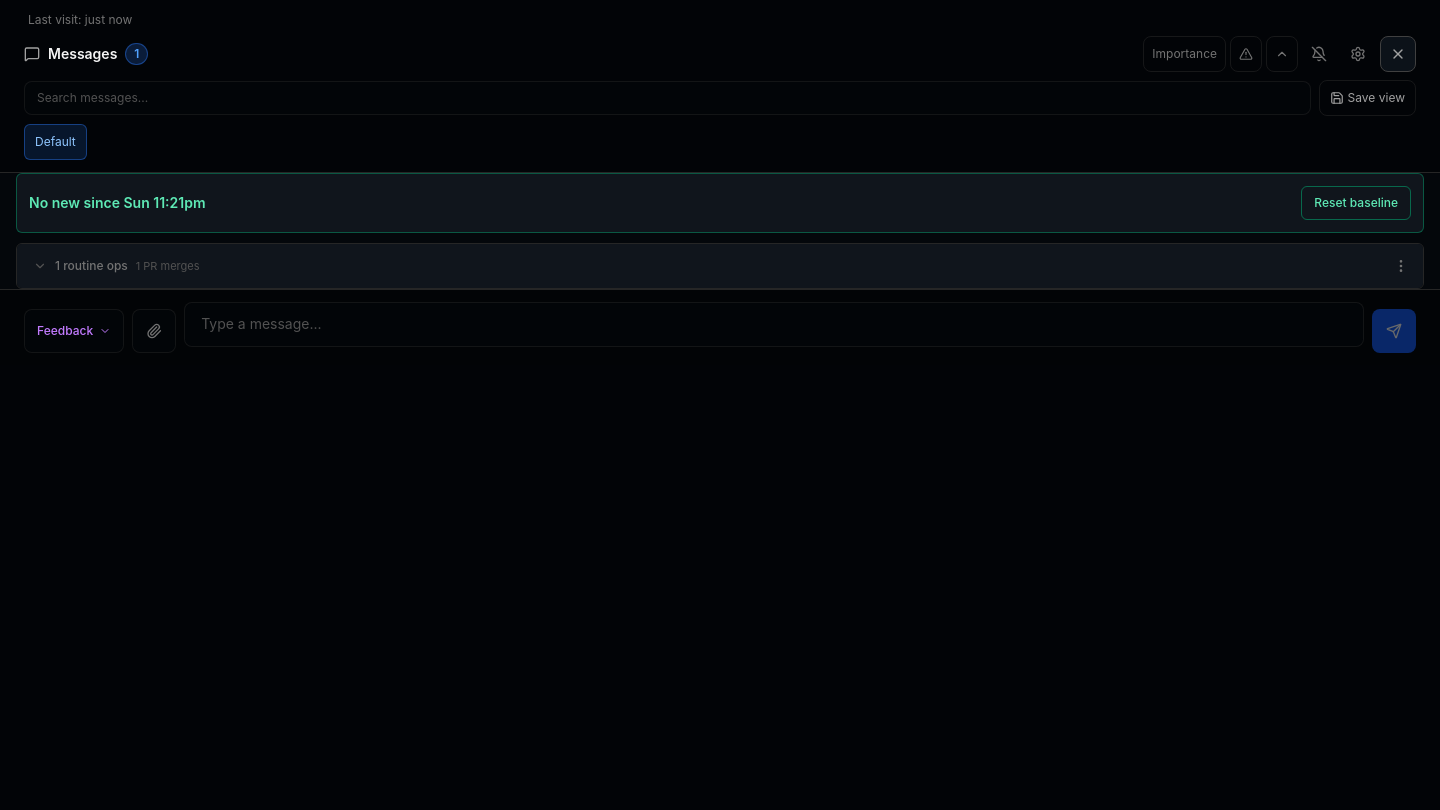
Test case: MessagesPanel grouping › routine ops group expands on click
Click the button "1 routine ops 1 PR merges": (94, 266) 17,248 -> 1379,284
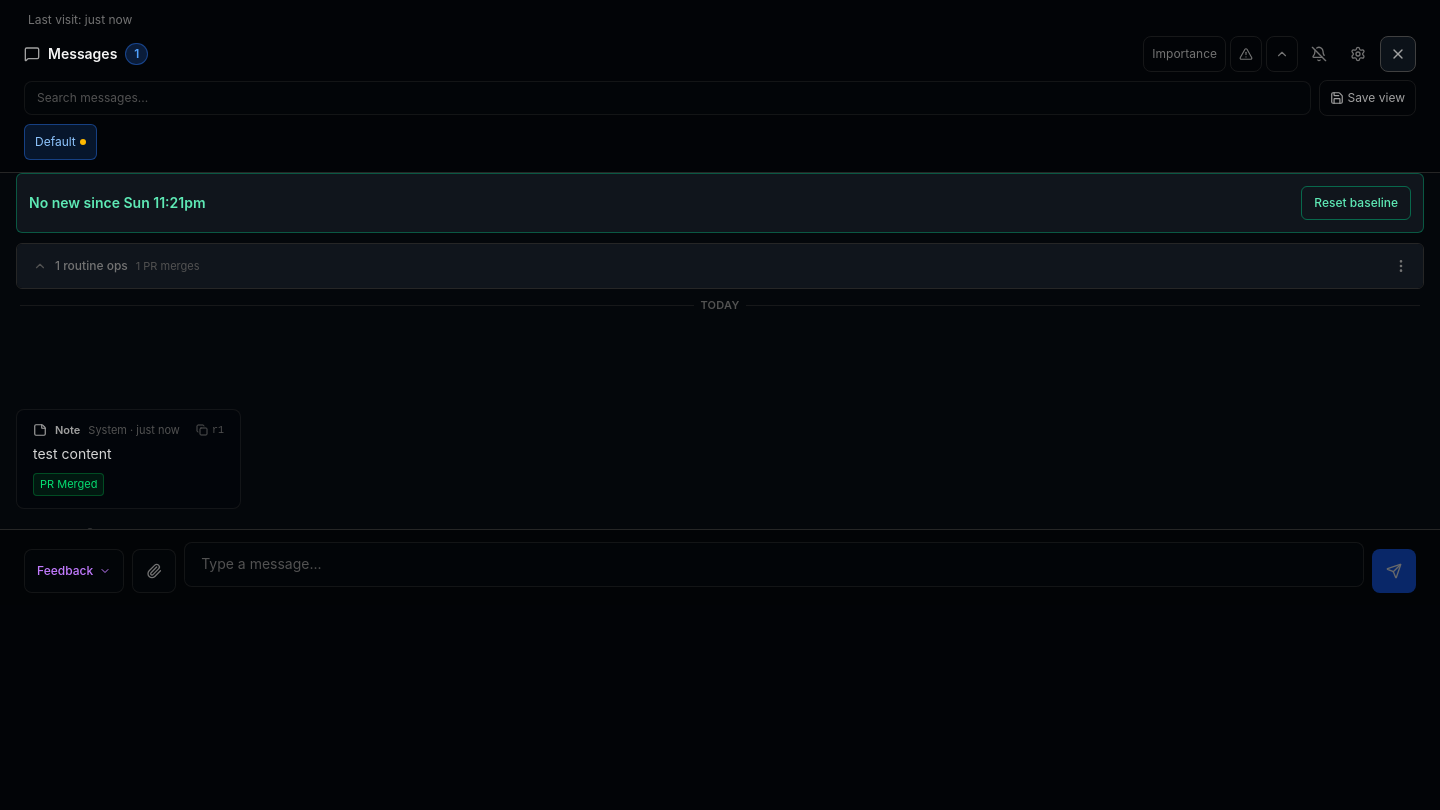
Expected: the text "test content" is shown, 33,444 -> 112,462
